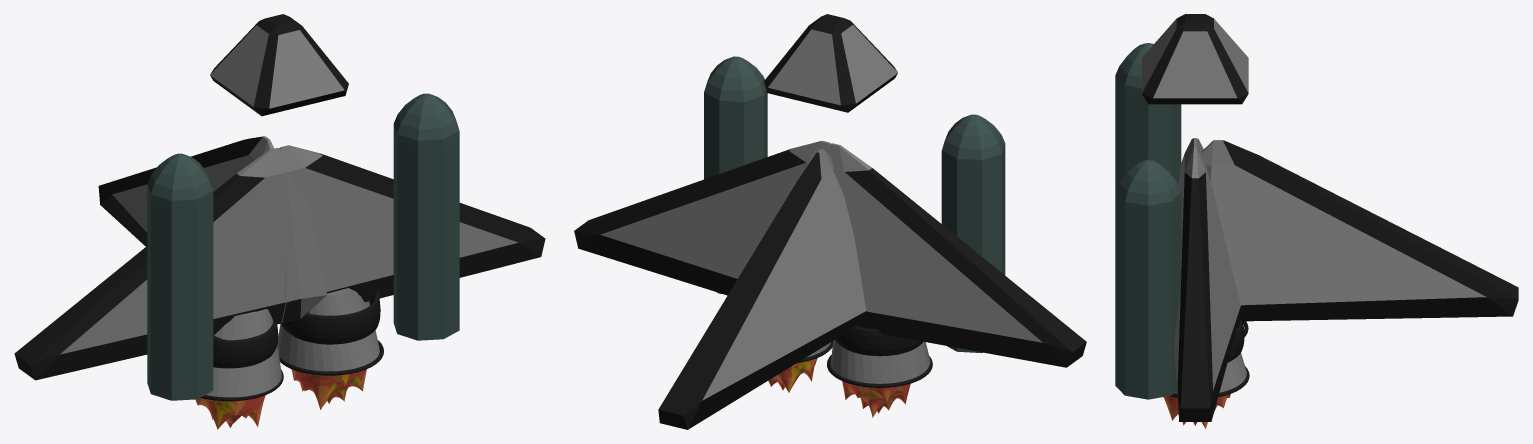
Rendered from IAmARocketShip.fbx.
The picture shows the model from 3 angles, left to right: view 1: azimuth 30°, elevation 25°; view 2: azimuth 150°, elevation 25°; view 3: azimuth 270°, elevation 25°; orthographic projection. The views are drawn at different scales.
Visible parts, largest first — view 1: Cube.001, Cylinder.001, Cylinder, Cube.002, Sphere, Sphere.001; view 2: Cube.001, Cylinder.001, Cube.002, Cylinder, Sphere.001, Sphere; view 3: Cube.001, Cylinder, Cube.002, Cylinder.001, Sphere.
Part boxes in pixels (box(x1,y1,x2,y2)): Cube.001: box(14, 136, 545, 401); Cylinder.001: box(147, 153, 213, 400); Cylinder: box(393, 93, 459, 340); Cube.002: box(210, 14, 348, 116); Sphere: box(291, 369, 366, 409); Sphere.001: box(195, 395, 265, 429); Cube.001: box(574, 140, 1086, 429); Cylinder.001: box(941, 114, 1005, 352); Cube.002: box(764, 14, 897, 112); Cylinder: box(704, 56, 767, 293); Sphere.001: box(842, 381, 910, 417); Sphere: box(768, 358, 817, 392); Cube.001: box(1170, 138, 1518, 421); Cylinder: box(1115, 159, 1181, 399); Cube.002: box(1142, 14, 1248, 104); Cylinder.001: box(1115, 43, 1181, 190); Sphere: box(1163, 394, 1230, 429).
Size of the model in its own units: 386 by 284 by 270.
